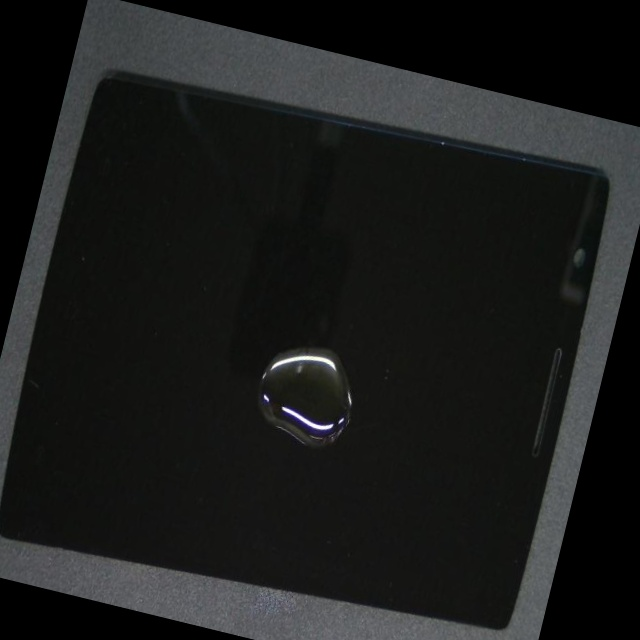oil: (173, 169, 503, 529)
